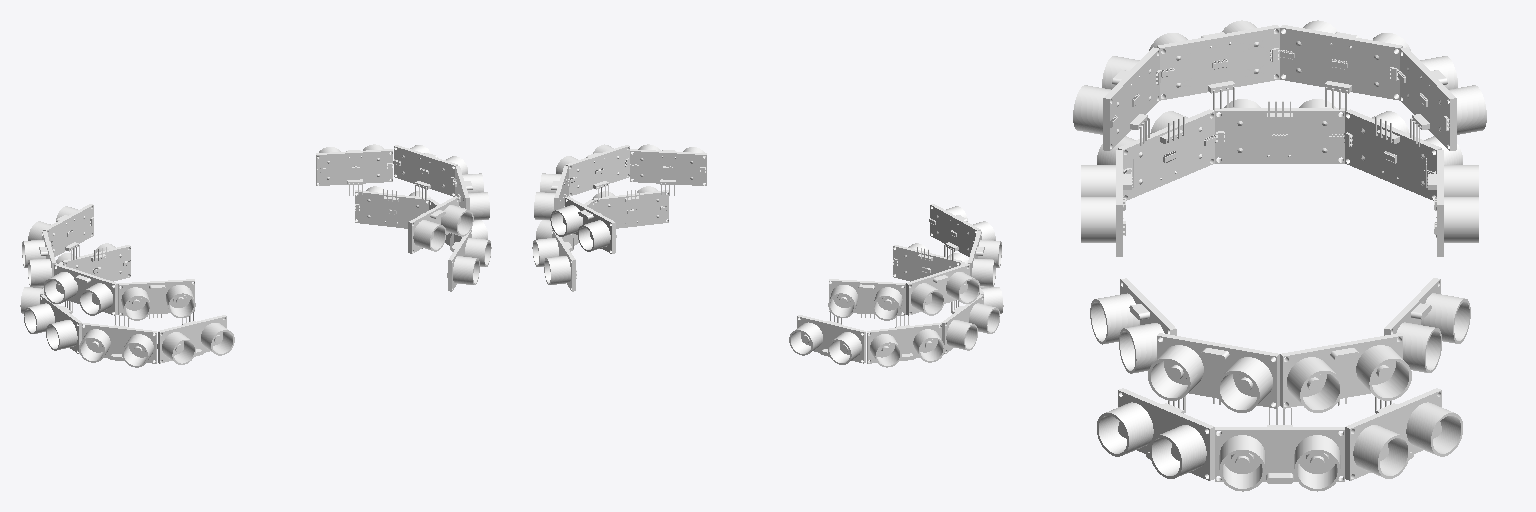
robot.urdf — loki:
<?xml version="1.0"?>
<robot name="loki">
  <material name="white">
    <color rgba="1 1 1 1"/>
  </material>

  <link name="base_link">
  </link>

  <link name="raspicam">
  </link>

  <joint name="base_raspicam" type="fixed">
    <parent link="base_link"/>
    <child link="raspicam"/>
    <origin rpy="0 0 -1.57" xyz="-0.15125 0.007 0"/>
  </joint>

  <link name="sonar_0">
    <visual>
      <origin rpy="1.5707 0 1.5707" xyz="0 0 0"/>
      <geometry>
        <mesh filename="package://ubiquity_launches/n_robot_state_publisher/meshes/HCSR04.stl"/>
      </geometry>
      <material name="white"/>
    </visual>
  </link>

  <joint name="base_sonar_0" type="fixed">
    <parent link="base_link"/>
    <child link="sonar_0"/>
    <!-- Bottom Mounted -->
    <origin rpy="3.1416 0 -1.5708" xyz="-0.126 -0.0545 -0.015"/>
  </joint>

  <link name="sonar_1">
    <visual>
      <origin rpy="1.5707 0 1.5707" xyz="0 0 0"/>
      <geometry>
        <mesh filename="package://ubiquity_launches/n_robot_state_publisher/meshes/HCSR04.stl"/>
      </geometry>
      <material name="white"/>
    </visual>
  </link>

  <joint name="base_sonar_1" type="fixed">
    <parent link="base_link"/>
    <child link="sonar_1"/>
    <!-- Top Mounted -->
    <origin rpy="0 0 -1.1781" xyz="0.04161 -0.044415 0.015"/>
  </joint>

  <link name="sonar_2">
    <visual>
      <origin rpy="1.5707 0 1.5707" xyz="0 0 0"/>
      <geometry>
        <mesh filename="package://ubiquity_launches/n_robot_state_publisher/meshes/HCSR04.stl"/>
      </geometry>
      <material name="white"/>
    </visual>
  </link>

  <joint name="base_sonar_2" type="fixed">
    <parent link="base_link"/>
    <child link="sonar_2"/>
    <!-- Bottom Mounted -->
    <origin rpy="3.1416 0 -0.7854" xyz="0.06253732 -0.03853732 -0.015"/>
  </joint>

  <link name="sonar_3">
    <visual>
      <origin rpy="1.5707 0 1.5707" xyz="0 0 0"/>
      <geometry>
        <mesh filename="package://ubiquity_launches/n_robot_state_publisher/meshes/HCSR04.stl"/>
      </geometry>
      <material name="white"/>
    </visual>
  </link>

  <joint name="base_sonar_3" type="fixed">
    <parent link="base_link"/>
    <child link="sonar_3"/>
    <!-- Top Mounted -->
    <origin rpy="0 0 -0.3927" xyz="0.074351435 -0.020856247 0.015"/>
  </joint>

  <link name="sonar_4">
    <visual>
      <origin rpy="1.5707 0 1.5707" xyz="0 0 0"/>
      <geometry>
        <mesh filename="package://ubiquity_launches/n_robot_state_publisher/meshes/HCSR04.stl"/>
      </geometry>
      <material name="white"/>
    </visual>
  </link>

  <joint name="base_sonar_4" type="fixed">
    <parent link="base_link"/>
    <child link="sonar_4"/>
    <!-- Bottom Mounted -->
    <origin rpy="3.1416 0 0" xyz="0.0785 0 -0.015"/>
  </joint>

  <link name="sonar_5">
    <visual>
      <origin rpy="1.5707 0 1.5707" xyz="0 0 0"/>
      <geometry>
        <mesh filename="package://ubiquity_launches/n_robot_state_publisher/meshes/HCSR04.stl"/>
      </geometry>
      <material name="white"/>
    </visual>
  </link>

  <joint name="base_sonar_5" type="fixed">
    <parent link="base_link"/>
    <child link="sonar_5"/>
    <!-- Top Mounted -->
    <origin rpy="0 0 0.3927" xyz="0.074351435 0.020856247 0.015"/>
  </joint>

  <link name="sonar_6">
    <visual>
      <origin rpy="1.5707 0 1.5707" xyz="0 0 0"/>
      <geometry>
        <mesh filename="package://ubiquity_launches/n_robot_state_publisher/meshes/HCSR04.stl"/>
      </geometry>
      <material name="white"/>
    </visual>
  </link>

  <joint name="base_sonar_6" type="fixed">
    <parent link="base_link"/>
    <child link="sonar_6"/>
    <!-- Bottom Mounted -->
    <origin rpy="3.1416 0 0.7854" xyz="0.06253732 0.03853732 -0.015"/>
  </joint>

  <link name="sonar_7">
    <visual>
      <origin rpy="1.5707 0 1.5707" xyz="0 0 0"/>
      <geometry>
        <mesh filename="package://ubiquity_launches/n_robot_state_publisher/meshes/HCSR04.stl"/>
      </geometry>
      <material name="white"/>
    </visual>
  </link>

  <joint name="base_sonar_7" type="fixed">
    <parent link="base_link"/>
    <child link="sonar_7"/>
    <!-- Top Mounted -->
    <origin rpy="0 0 1.1781" xyz="0.04131 0.044785 0.015"/>
  </joint>

  <link name="sonar_8">
    <visual>
      <origin rpy="1.5707 0 1.5707" xyz="0 0 0"/>
      <geometry>
        <mesh filename="package://ubiquity_launches/n_robot_state_publisher/meshes/HCSR04.stl"/>
      </geometry>
      <material name="white"/>
    </visual>
  </link>

  <joint name="base_sonar_8" type="fixed">
    <parent link="base_link"/>
    <child link="sonar_8"/>
    <!-- Bottom Mounted -->
    <origin rpy="3.1416 0 1.5708" xyz="-0.126 0.0545 -0.015"/>
  </joint>

  <link name="sonar_9">
    <visual>
      <origin rpy="1.5707 0 1.5707" xyz="0 0 0"/>
      <geometry>
        <mesh filename="package://ubiquity_launches/n_robot_state_publisher/meshes/HCSR04.stl"/>
      </geometry>
      <material name="white"/>
    </visual>
  </link>

  <joint name="base_sonar_9" type="fixed">
    <parent link="base_link"/>
    <child link="sonar_9"/>
    <!-- Top Mounted -->
    <origin rpy="0 0 1.9635" xyz="-0.146856247 0.050351435 0.015"/>
  </joint>

  <link name="sonar_10">
    <visual>
      <origin rpy="1.5707 0 1.5707" xyz="0 0 0"/>
      <geometry>
        <mesh filename="package://ubiquity_launches/n_robot_state_publisher/meshes/HCSR04.stl"/>
      </geometry>
      <material name="white"/>
    </visual>
  </link>

  <joint name="base_sonar_10" type="fixed">
    <parent link="base_link"/>
    <child link="sonar_10"/>
    <!-- Bottom Mounted -->
    <origin rpy="3.1416 0 2.3562" xyz="-0.16453732 0.03853732 -0.015"/>
  </joint>

  <link name="sonar_11">
    <visual>
      <origin rpy="1.5707 0 1.5707" xyz="0 0 0"/>
      <geometry>
        <mesh filename="package://ubiquity_launches/n_robot_state_publisher/meshes/HCSR04.stl"/>
      </geometry>
      <material name="white"/>
    </visual>
  </link>

  <joint name="base_sonar_11" type="fixed">
    <parent link="base_link"/>
    <child link="sonar_11"/>
    <!-- Top Mounted -->
    <origin rpy="0 0 2.7489" xyz="-0.176351435 0.020856247 0.015"/>
  </joint>

  <link name="sonar_12">
    <visual>
      <origin rpy="1.5707 0 1.5707" xyz="0 0 0"/>
      <geometry>
        <mesh filename="package://ubiquity_launches/n_robot_state_publisher/meshes/HCSR04.stl"/>
      </geometry>
      <material name="white"/>
    </visual>
  </link>

  <joint name="base_sonar_12" type="fixed">
    <parent link="base_link"/>
    <child link="sonar_12"/>
    <!-- Bottom Mounted -->
    <origin rpy="3.1416 0 3.1416" xyz="-0.1805 0 -0.015"/>
  </joint>

  <link name="sonar_13">
    <visual>
      <origin rpy="1.5707 0 1.5707" xyz="0 0 0"/>
      <geometry>
        <mesh filename="package://ubiquity_launches/n_robot_state_publisher/meshes/HCSR04.stl"/>
      </geometry>
      <material name="white"/>
    </visual>
  </link>

  <joint name="base_sonar_13" type="fixed">
    <parent link="base_link"/>
    <child link="sonar_13"/>
    <!-- Top Mounted -->
    <origin rpy="0 0 -2.7489" xyz="-0.176351435 -0.020856247 0.015"/>
  </joint>

  <link name="sonar_14">
    <visual>
      <origin rpy="1.5707 0 1.5707" xyz="0 0 0"/>
      <geometry>
        <mesh filename="package://ubiquity_launches/n_robot_state_publisher/meshes/HCSR04.stl"/>
      </geometry>
      <material name="white"/>
    </visual>
  </link>

  <joint name="base_sonar_14" type="fixed">
    <parent link="base_link"/>
    <child link="sonar_14"/>
    <!-- Bottom Mounted -->
    <origin rpy="3.1416 0 -2.3562" xyz="-0.16453732 -0.03853732 -0.015"/>
  </joint>

  <link name="sonar_15">
    <visual>
      <origin rpy="1.5707 0 1.5707" xyz="0 0 0"/>
      <geometry>
        <mesh filename="package://ubiquity_launches/n_robot_state_publisher/meshes/HCSR04.stl"/>
      </geometry>
      <material name="white"/>
    </visual>
  </link>

  <joint name="base_sonar_15" type="fixed">
    <parent link="base_link"/>
    <child link="sonar_15"/>
    <!-- Top Mounted -->
    <origin rpy="0 0 -1.9635" xyz="-0.146856247 -0.050351435 0.015"/>
  </joint>

</robot>

--- What the picture shows (computed from the rendered views, not written in the file) ---
3 views of the same robot in one strip: view 1: azimuth 30°, elevation 25°; view 2: azimuth 150°, elevation 25°; view 3: azimuth 270°, elevation 25° (orthographic).
Robot: loki — 18 links, 17 joints (17 fixed); root link base_link; default pose: every joint at zero.
Visible links, largest first — view 1: sonar_7, sonar_14, sonar_15, sonar_0, sonar_13, sonar_5, sonar_6, sonar_1, sonar_12, sonar_9, sonar_2, sonar_8 (+2 smaller); view 2: sonar_1, sonar_10, sonar_9, sonar_8, sonar_11, sonar_3, sonar_2, sonar_7, sonar_12, sonar_15, sonar_6, sonar_0 (+2 smaller); view 3: sonar_4, sonar_12, sonar_3, sonar_5, sonar_11, sonar_13, sonar_2, sonar_6, sonar_10, sonar_14, sonar_15, sonar_9 (+4 smaller).
Boxes of the visible links, x1=… form: sonar_7: x1=316, y1=144, x2=392, y2=195; sonar_14: x1=79, y1=316, x2=156, y2=367; sonar_15: x1=118, y1=279, x2=195, y2=320; sonar_0: x1=157, y1=312, x2=234, y2=364; sonar_13: x1=44, y1=263, x2=117, y2=315; sonar_5: x1=393, y1=145, x2=467, y2=199; sonar_6: x1=355, y1=186, x2=431, y2=228; sonar_1: x1=408, y1=196, x2=473, y2=253; sonar_12: x1=24, y1=294, x2=81, y2=353; sonar_9: x1=28, y1=204, x2=93, y2=260; sonar_2: x1=447, y1=229, x2=491, y2=291; sonar_8: x1=56, y1=243, x2=130, y2=281; sonar_1: x1=630, y1=144, x2=706, y2=195; sonar_10: x1=867, y1=316, x2=944, y2=367; sonar_9: x1=828, y1=279, x2=905, y2=320; sonar_8: x1=789, y1=312, x2=865, y2=364; sonar_11: x1=906, y1=263, x2=979, y2=315; sonar_3: x1=556, y1=144, x2=629, y2=199; sonar_2: x1=592, y1=186, x2=668, y2=228; sonar_7: x1=550, y1=196, x2=616, y2=253; sonar_12: x1=941, y1=294, x2=999, y2=353; sonar_15: x1=929, y1=204, x2=995, y2=260; sonar_6: x1=532, y1=229, x2=576, y2=291; sonar_0: x1=893, y1=243, x2=967, y2=281; sonar_4: x1=1215, y1=408, x2=1344, y2=491; sonar_12: x1=1215, y1=99, x2=1344, y2=163; sonar_3: x1=1148, y1=333, x2=1279, y2=412; sonar_5: x1=1280, y1=333, x2=1411, y2=412; sonar_11: x1=1280, y1=20, x2=1410, y2=110; sonar_13: x1=1149, y1=20, x2=1279, y2=110; sonar_2: x1=1097, y1=388, x2=1214, y2=480; sonar_6: x1=1345, y1=388, x2=1462, y2=480; sonar_10: x1=1344, y1=109, x2=1462, y2=200; sonar_14: x1=1097, y1=109, x2=1215, y2=200; sonar_15: x1=1073, y1=47, x2=1160, y2=150; sonar_9: x1=1398, y1=47, x2=1486, y2=150.
Size in the robot's own frame: 0.2936 by 0.1436 by 0.05 metres.
16 mesh visuals loaded from 1 distinct referenced files (1 binary STL).